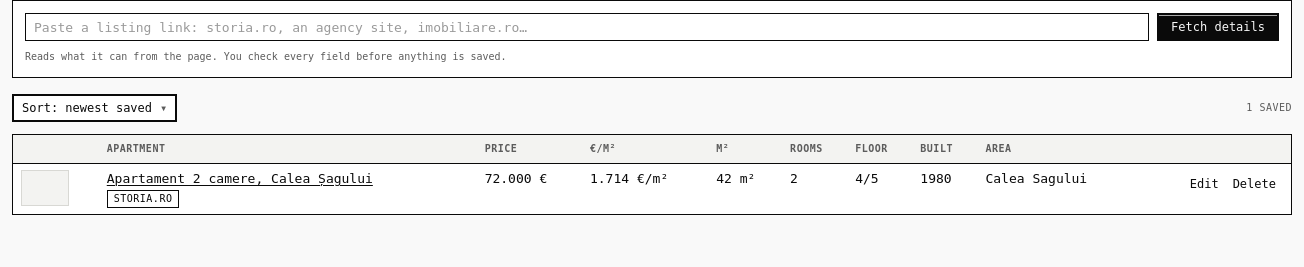
Test: <SavedPage> add by link › deletes only after a second click
This screenshot has width=1304, height=267.
Click the button with aria-label "Delete Apartament": (1254, 184) top-left (1226, 170), bottom-right (1283, 198)
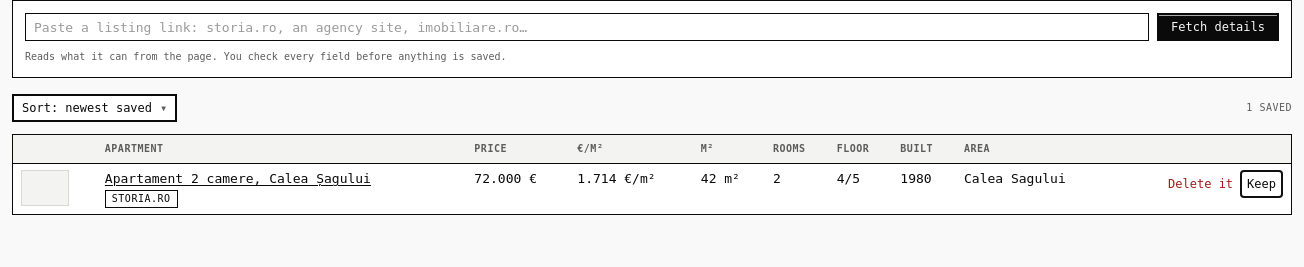
Click the button "Delete it": (1201, 184) top-left (1161, 170), bottom-right (1240, 198)
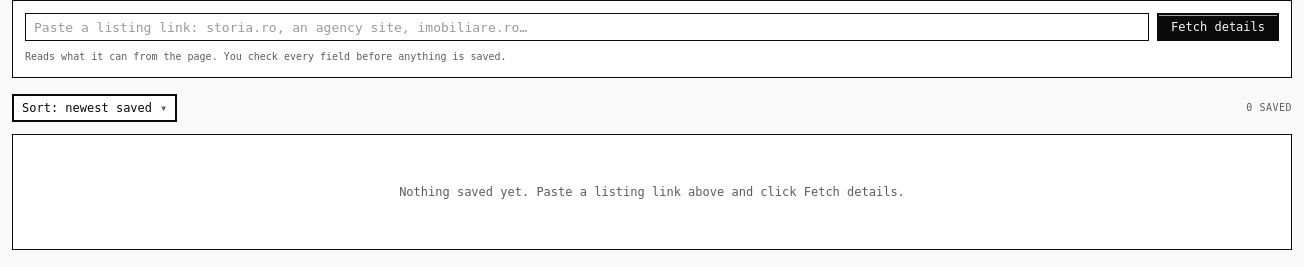
Check: the text "Nothing saved yet" is shown, box top-left (399, 185), bottom-right (905, 199)
